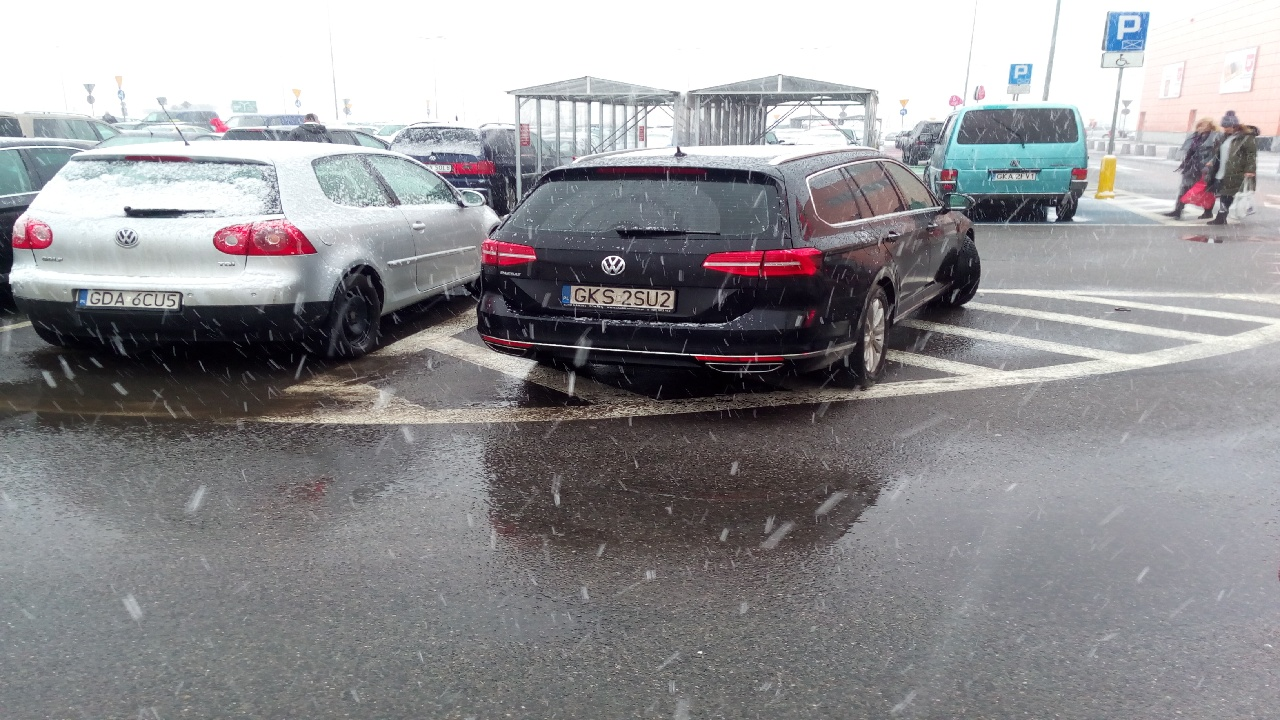D18: (1106, 12, 1146, 51), (1010, 63, 1031, 83)
